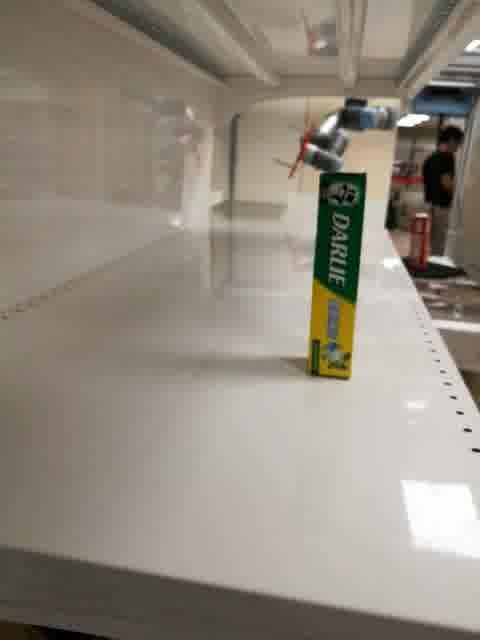toothpaste: (305, 171, 368, 382)
